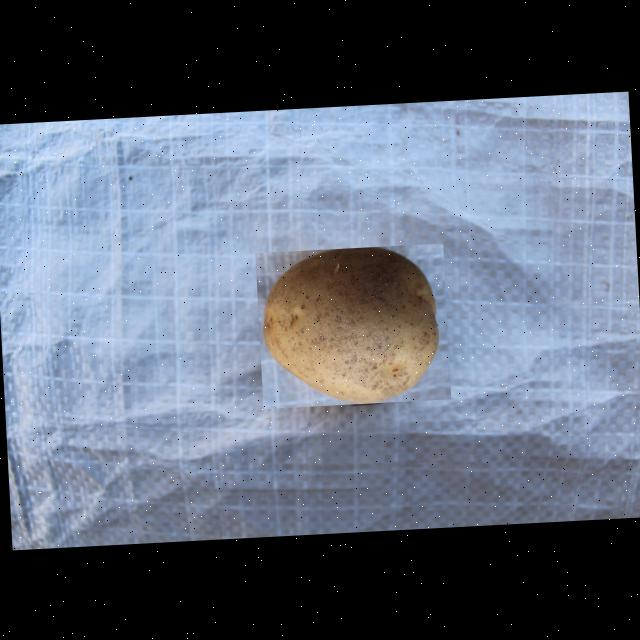Diseased-fungal potato: (254, 242, 450, 408)
